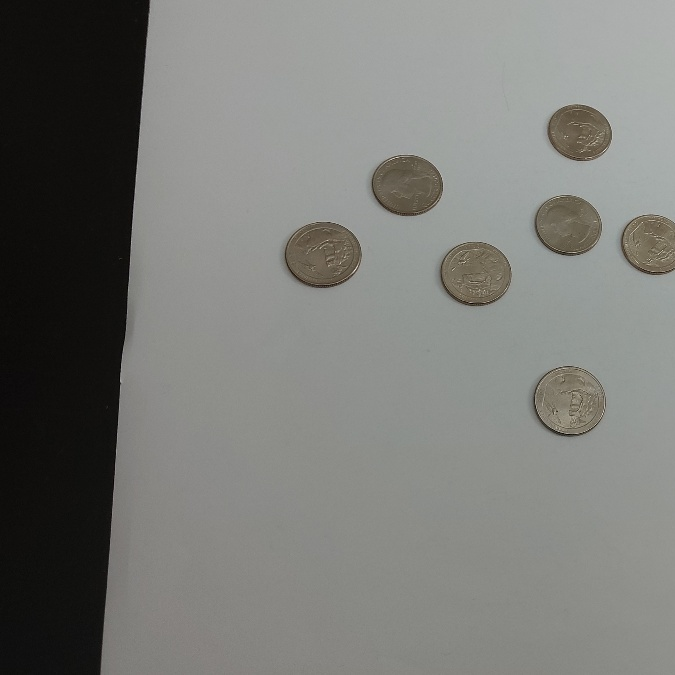coin_quarter: (278, 219, 365, 290), (438, 238, 515, 313), (533, 360, 609, 435), (527, 192, 604, 262), (369, 154, 448, 220), (544, 101, 614, 166)
